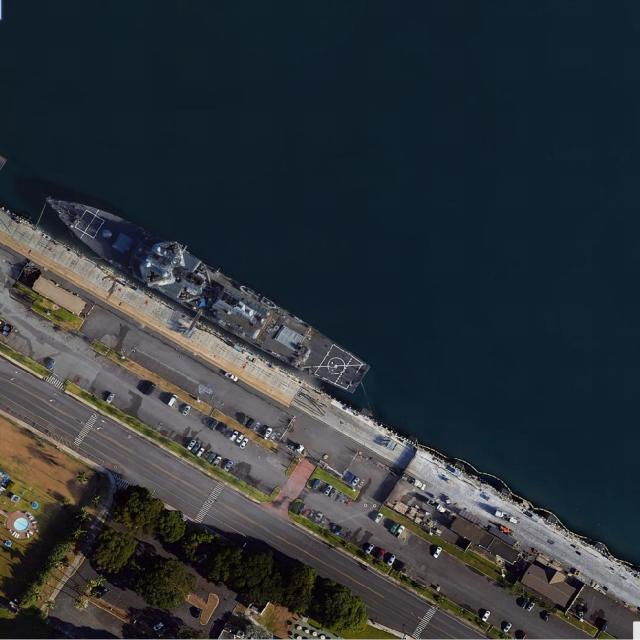Destroyer: (34, 181, 374, 397)
